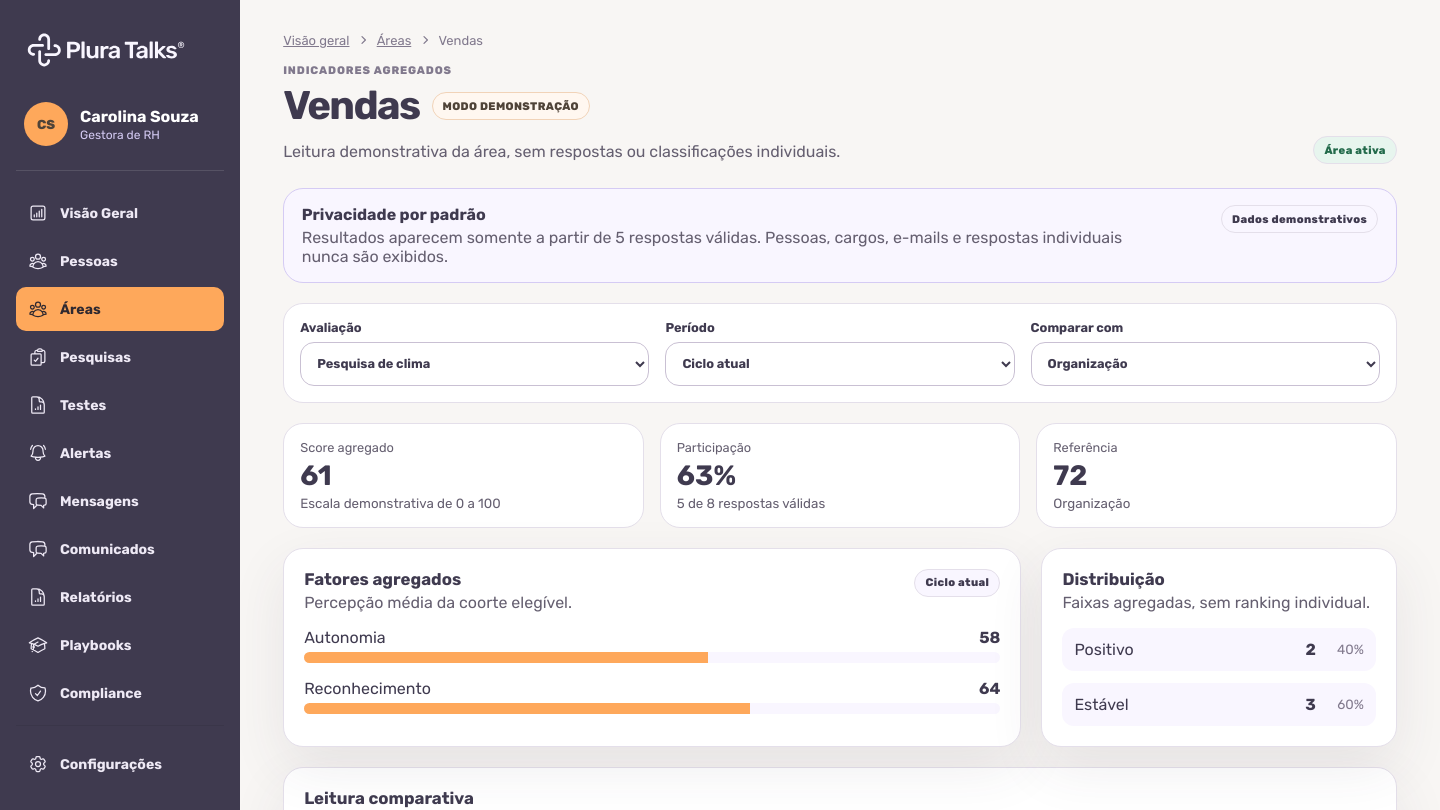
Test: AreaDashboardPage › exibe somente dados agregados quando há cinco respostas
Expected: the text "Score agregado" is shown, 300,440 -> 394,455
Expected: the text "61" is shown, 300,459 -> 332,492
Select "Jurídico" in the dropdown labelled "Comparar com" at (1205, 364), box 1031,342 -> 1380,386
(page scrolled)
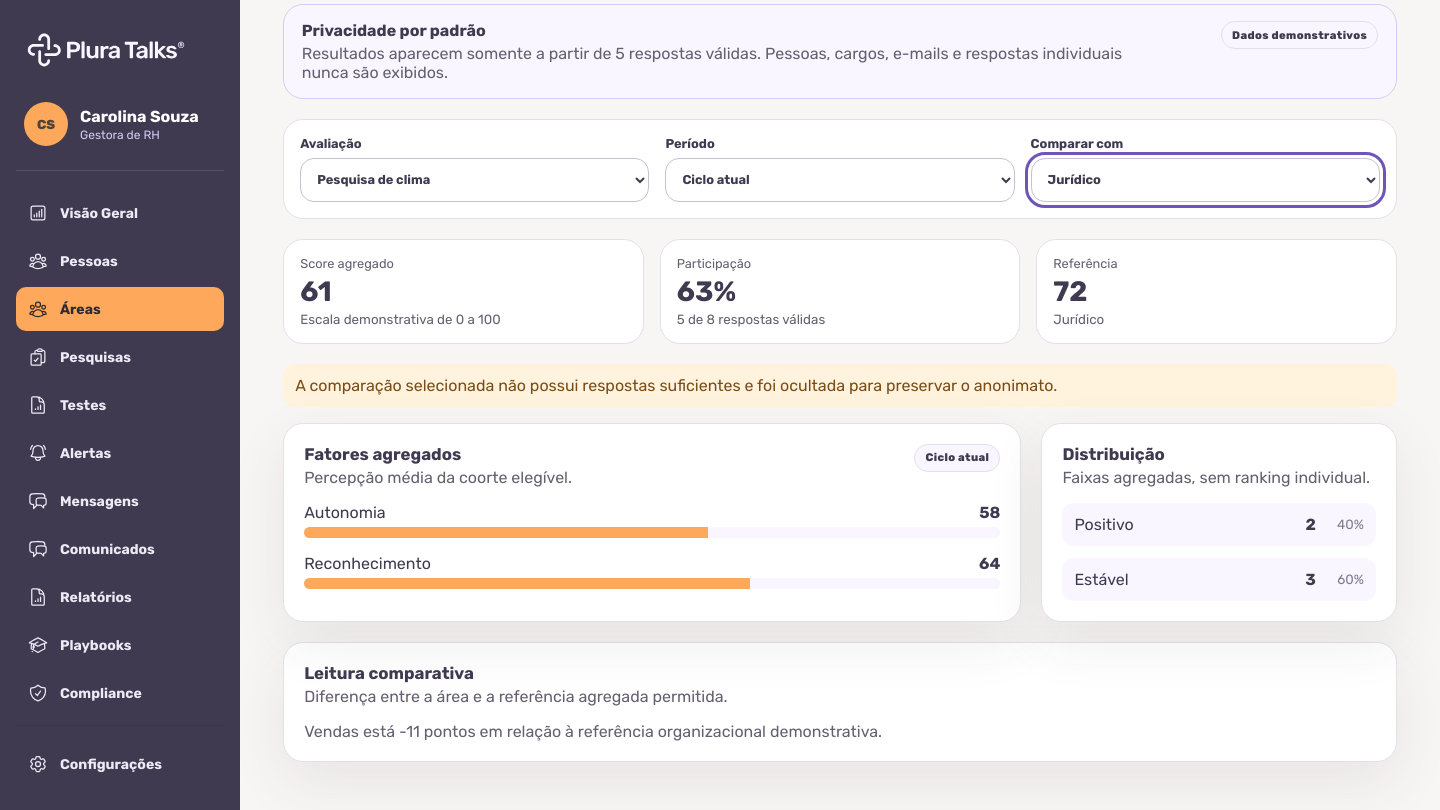
Expected: the text "Diferença entre a área e a referência agregada permitida." is shown, 304,687 -> 728,706
Expected: the text "comparação selecionada não possui respostas suficientes" is shown, 295,376 -> 1057,395
